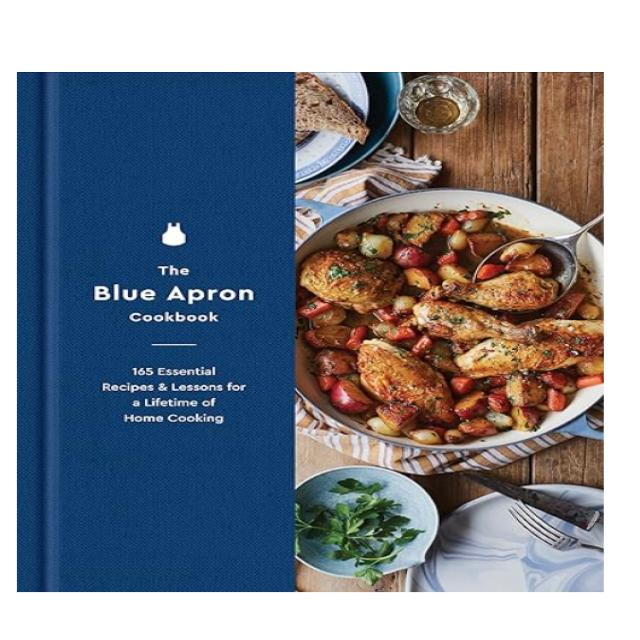titles-or-authors: (83, 261, 264, 332)
